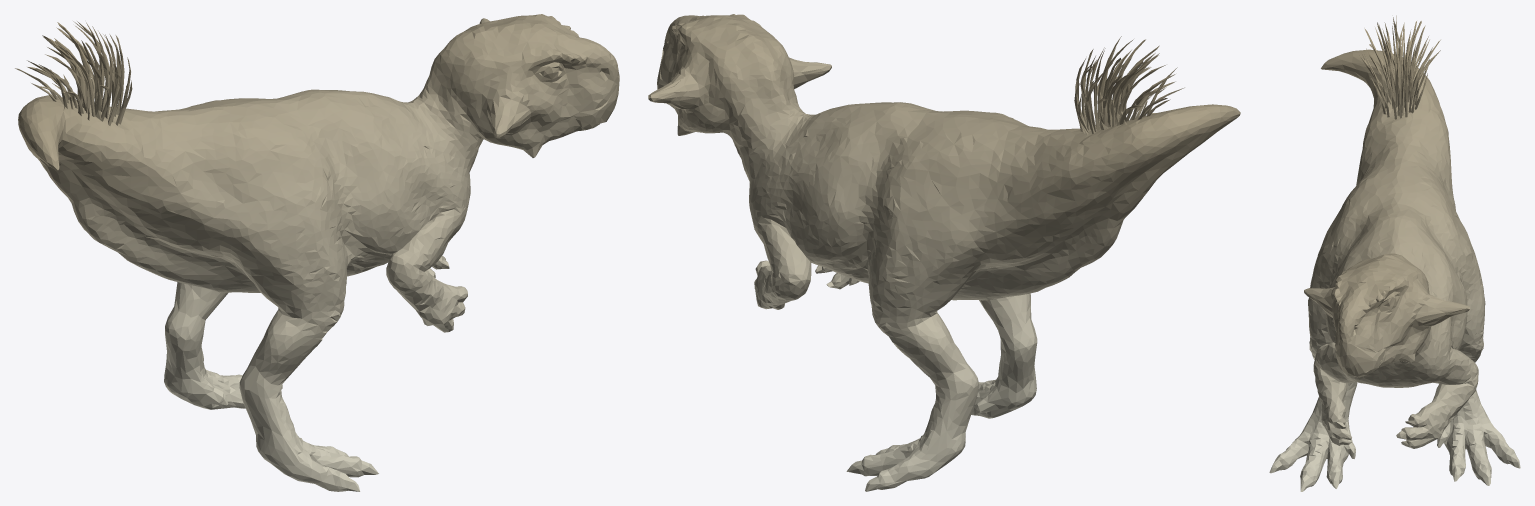
The model's file is psittacosaurus.glb.
3 renders of one model, left to right at view 1: azimuth 30°, elevation 25°; view 2: azimuth 150°, elevation 25°; view 3: azimuth 270°, elevation 25°, orthographic. The views are drawn at different scales.
Visible parts, largest first — view 1: world; view 2: world; view 3: world.
Part boxes in pixels (x1=…): world: x1=15, y1=14, x2=619, y2=491; world: x1=648, y1=14, x2=1240, y2=491; world: x1=1269, y1=15, x2=1520, y2=491.
Bounding box in the file's own units: 7 × 5.37 × 3.21.
